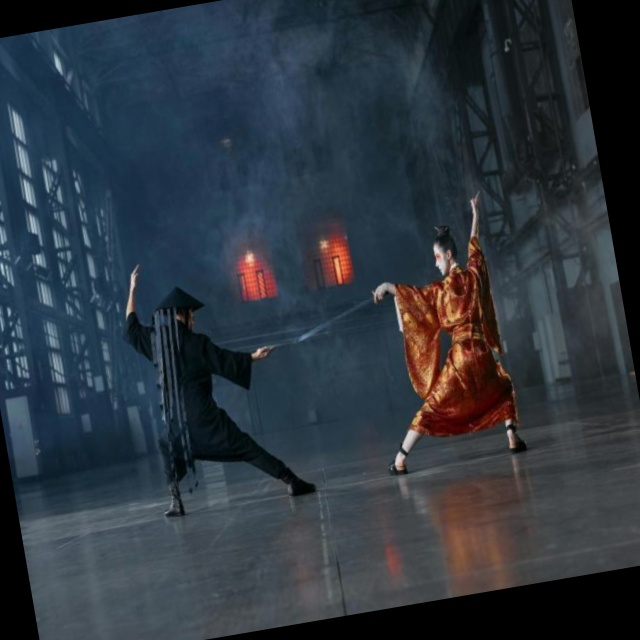Sharp-Object: (285, 273, 392, 361)
